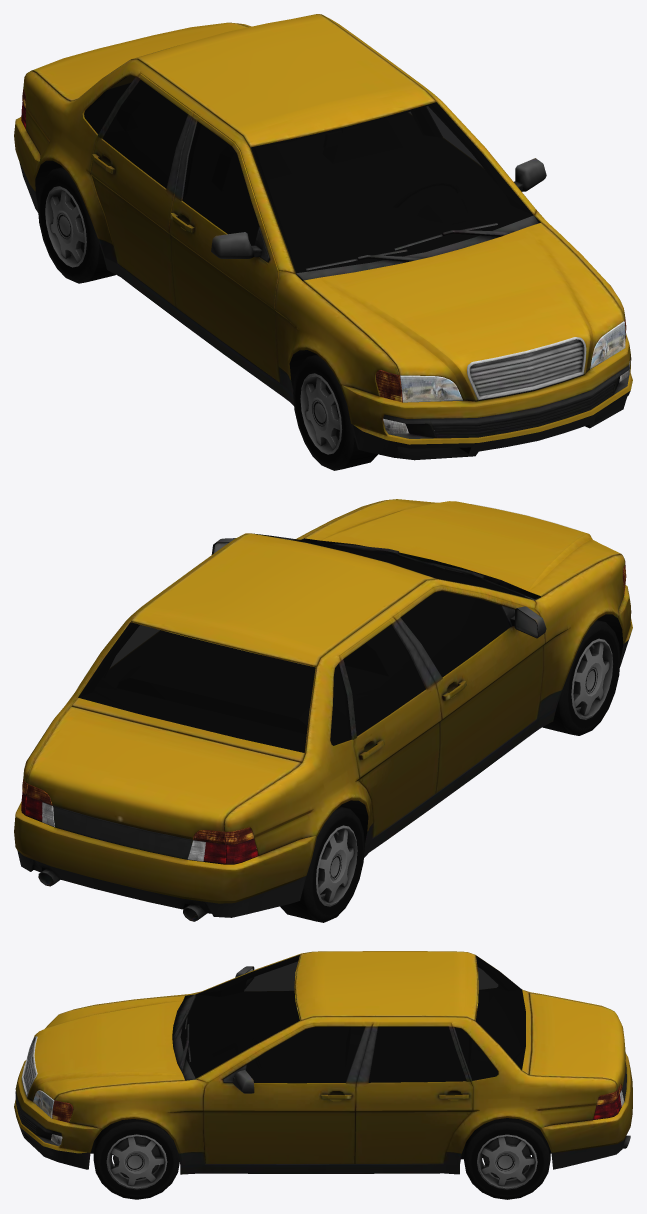
Rendered from taxi.glb.
The picture shows the model from 3 angles, top to bottom: view 1: azimuth 30°, elevation 25°; view 2: azimuth 150°, elevation 25°; view 3: azimuth 270°, elevation 25°; orthographic projection. The views are drawn at different scales.
Visible parts, largest first — view 1: body, wheel_fr, wheel_rr; view 2: body, wheel_rr, wheel_fr; view 3: body, wheel_rl, wheel_fl.
Boxes of the visible parts, x1,y1,x2,y2 form: body: [14, 14, 632, 460]; wheel_fr: [293, 354, 377, 470]; wheel_rr: [37, 167, 115, 283]; body: [14, 499, 632, 921]; wheel_rr: [280, 806, 364, 922]; wheel_fr: [542, 620, 620, 735]; body: [14, 951, 632, 1174]; wheel_rl: [464, 1118, 550, 1199]; wheel_fl: [93, 1119, 179, 1199].
Bounding box in the file's own units: 2.09 × 1.45 × 4.7.
Materials: 4 (3 with a texture image).
